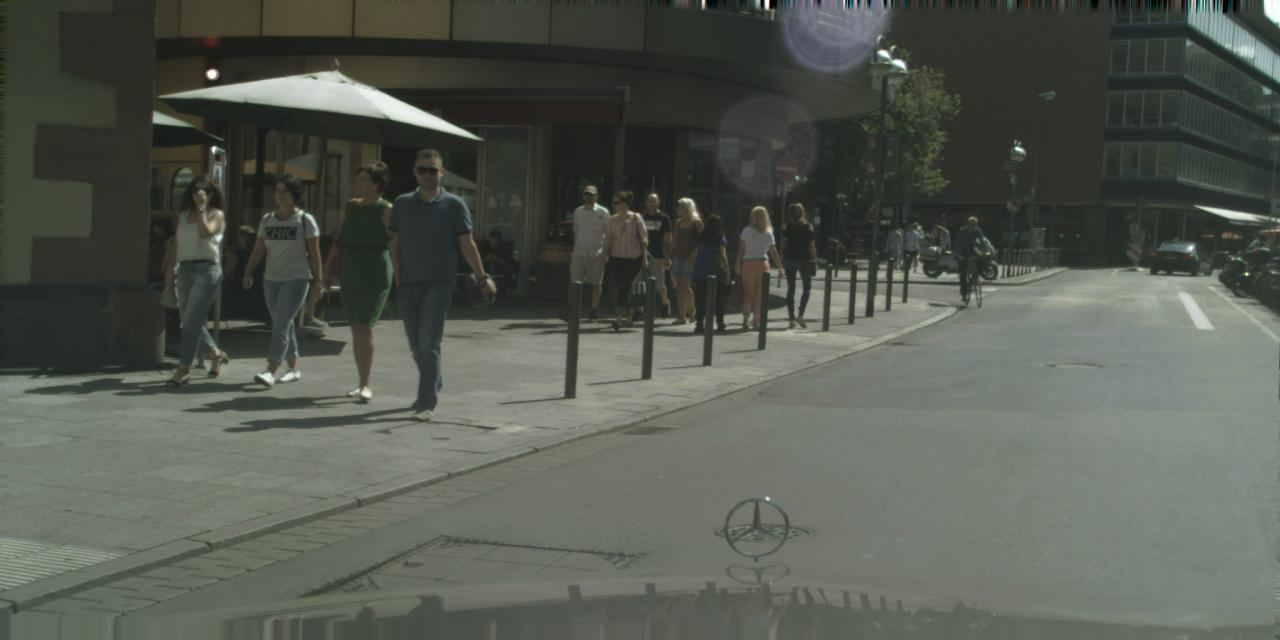ped: (371, 148, 483, 423), (317, 160, 414, 398), (238, 173, 326, 385), (160, 172, 244, 380), (595, 192, 651, 329), (558, 185, 614, 321), (627, 192, 679, 318), (660, 197, 711, 324), (770, 202, 821, 327), (730, 205, 780, 329), (689, 215, 736, 332), (956, 216, 986, 288), (932, 222, 952, 270), (900, 223, 919, 272), (865, 224, 884, 272), (885, 224, 903, 268), (889, 223, 905, 264), (908, 222, 924, 260), (1170, 235, 1181, 262), (842, 228, 852, 255)
